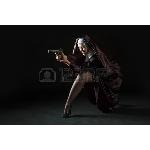Pistol: (48, 48, 64, 60)
